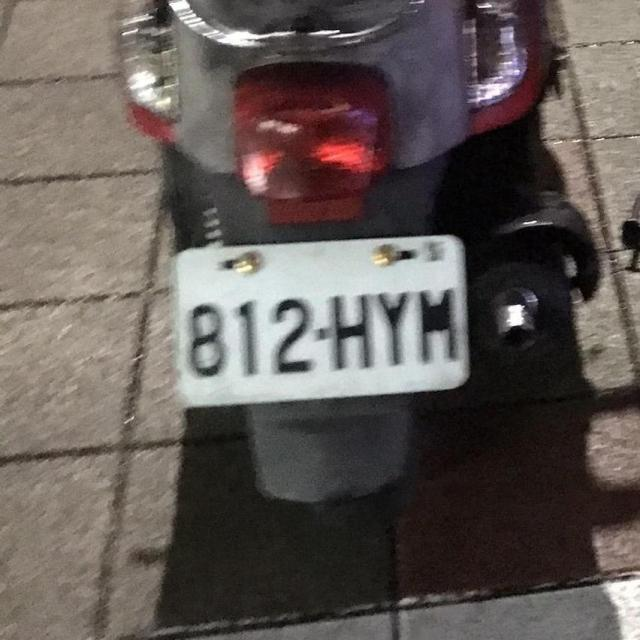W: (174, 230, 474, 412)
